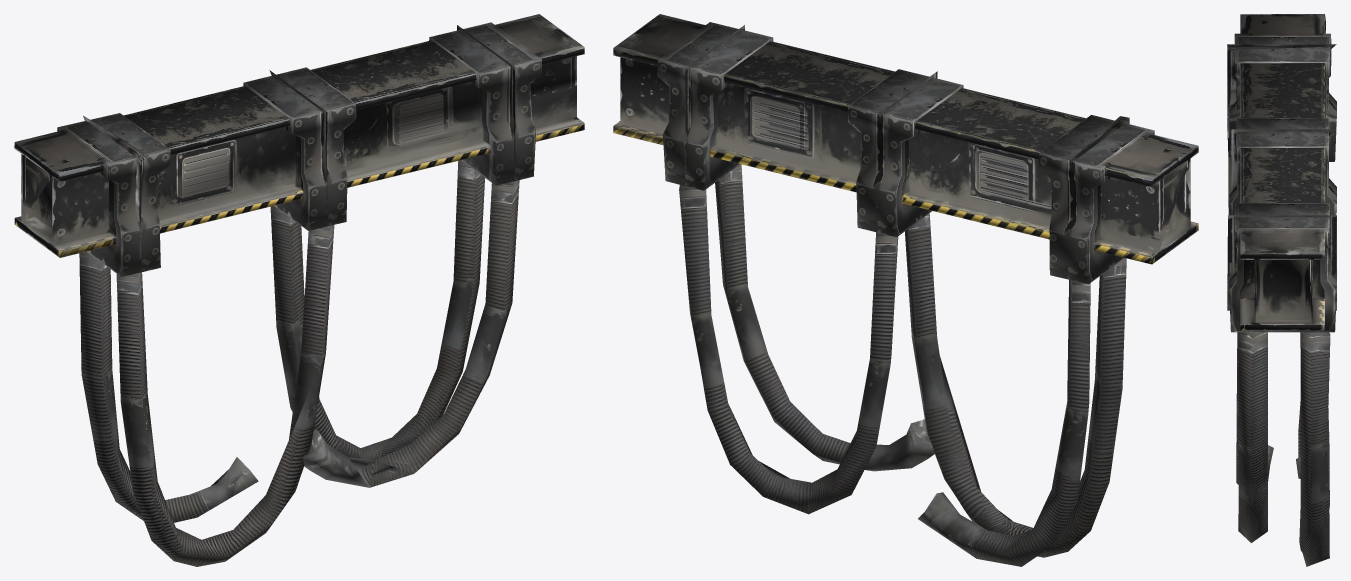
Rendered from cable_hang.glb.
3 renders of one model, left to right at view 1: azimuth 30°, elevation 25°; view 2: azimuth 150°, elevation 25°; view 3: azimuth 270°, elevation 25°, orthographic. The views are drawn at different scales.
Visible parts, largest first — view 1: cable_hang; view 2: cable_hang; view 3: cable_hang.
Part boxes in pixels (box(x1,y1,x2,y2)): cable_hang: box(14, 14, 584, 566); cable_hang: box(613, 14, 1198, 566); cable_hang: box(1227, 14, 1336, 566).
Size of the model in its own units: 4 by 3.19 by 0.7751.
Materials: 1 (1 with a texture image).
